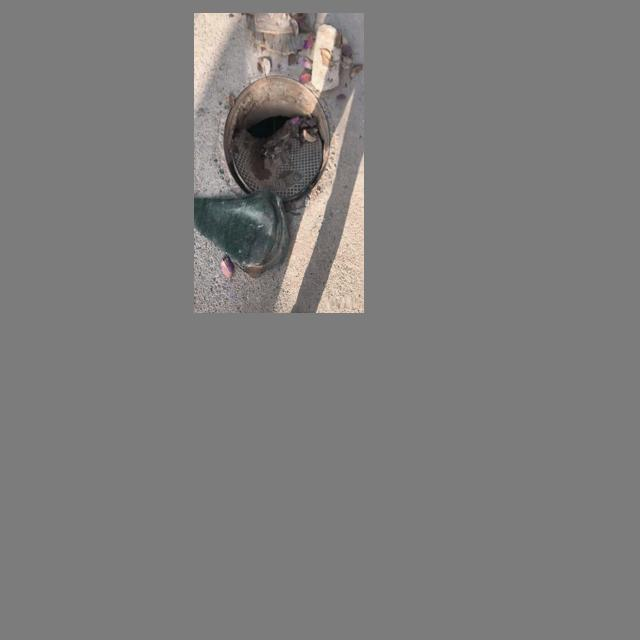broke: (216, 71, 335, 205)
